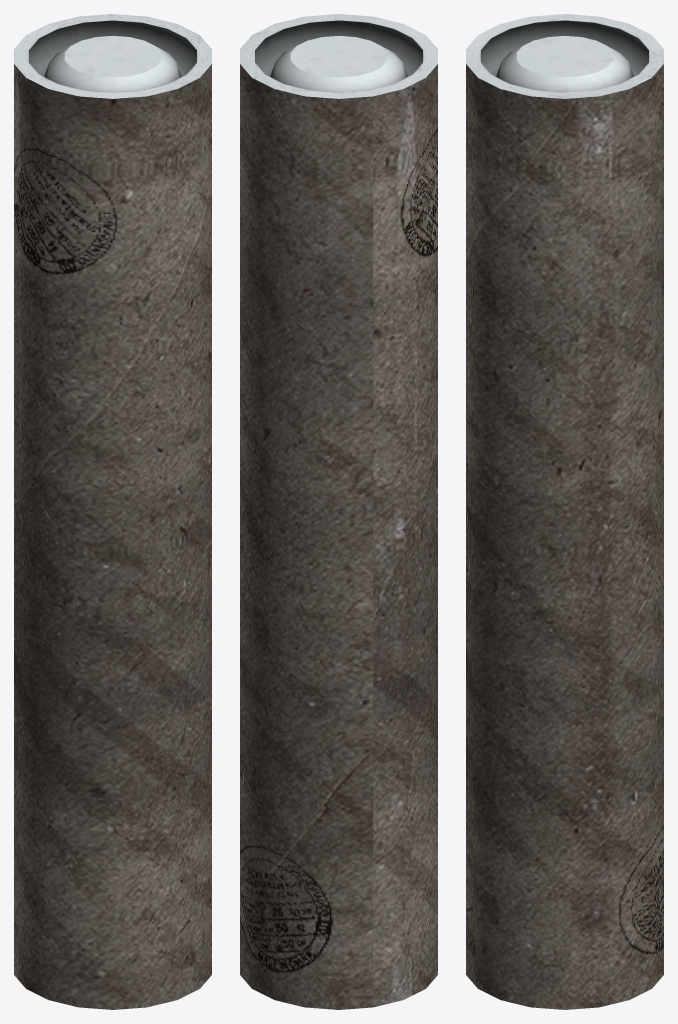
The model's file is cardboard_tube.glb.
The picture shows the model from 3 angles, left to right: view 1: azimuth 30°, elevation 25°; view 2: azimuth 150°, elevation 25°; view 3: azimuth 270°, elevation 25°; orthographic projection.
Parts seen in each view (by area): view 1: tube; view 2: tube; view 3: tube.
Part boxes in pixels (bbox=[...]): tube: bbox=[14, 14, 211, 1009]; tube: bbox=[240, 14, 437, 1009]; tube: bbox=[466, 14, 663, 1009].
Size of the model in its own units: 0.2 by 1 by 0.197.
1 material, 1 textured.
